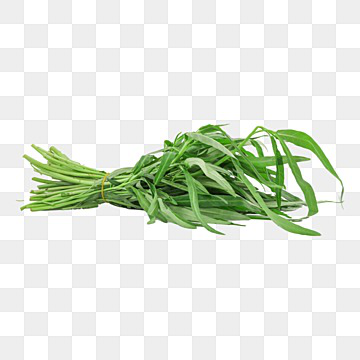Kangkung: (23, 105, 352, 265)
